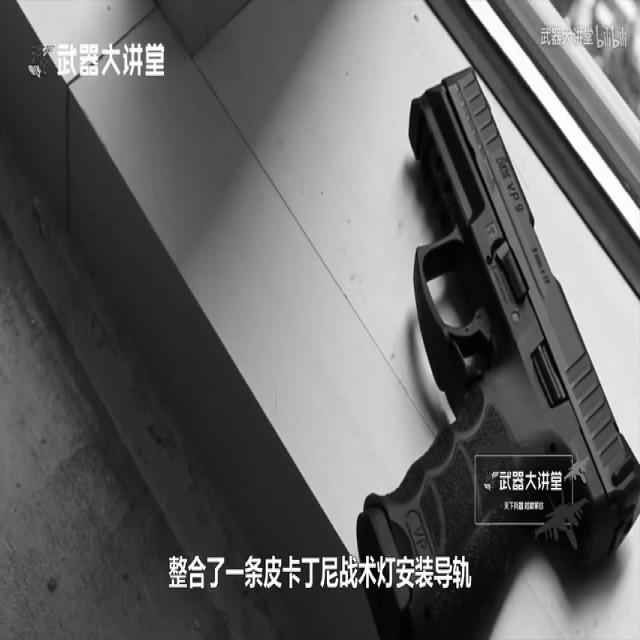Hand-Gun: (334, 0, 640, 640)
